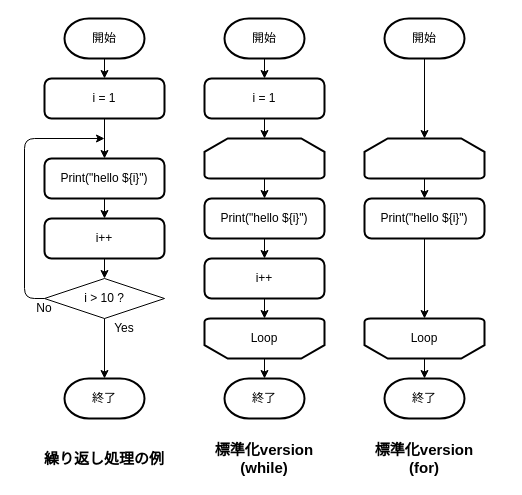
Some shapes in this 522 by 495 pixel diagram are drawn without their labels. Each missing label, with the centre of its shape:
Loop i = 0; i ≦ 10; i++: point 424,158
Loop i ≦ 10: point 264,158
